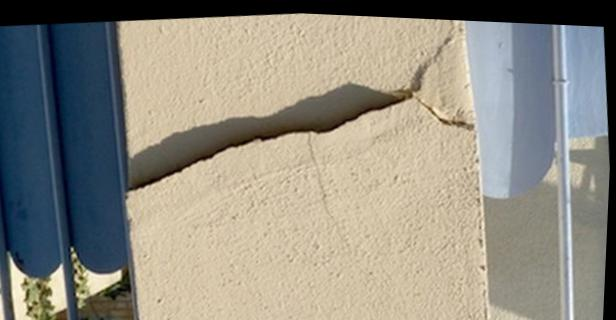crack: (129, 16, 476, 236)
